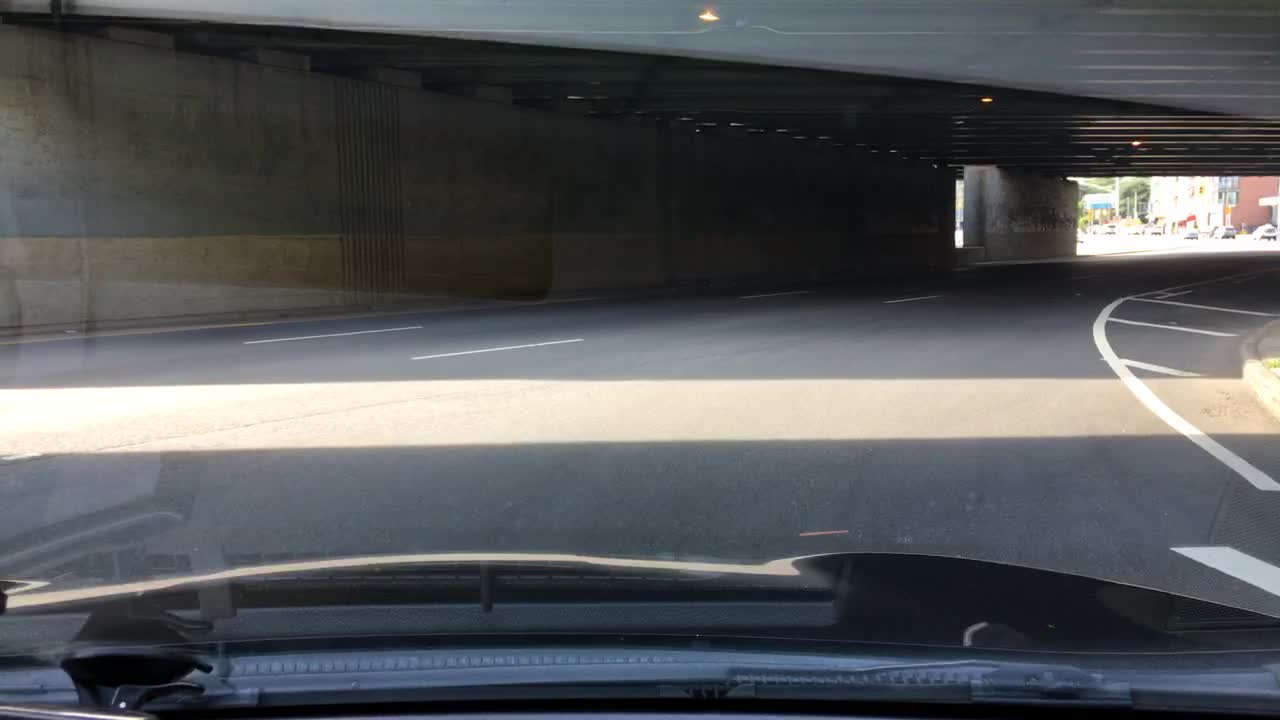car: (1252, 222, 1278, 241), (1212, 223, 1238, 239), (1126, 222, 1145, 234), (1180, 229, 1199, 241), (1102, 222, 1119, 234), (1151, 223, 1166, 234)
traffic light: (1196, 182, 1205, 196)
